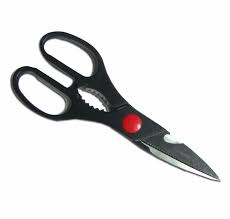tihiras: (10, 30, 220, 186)
